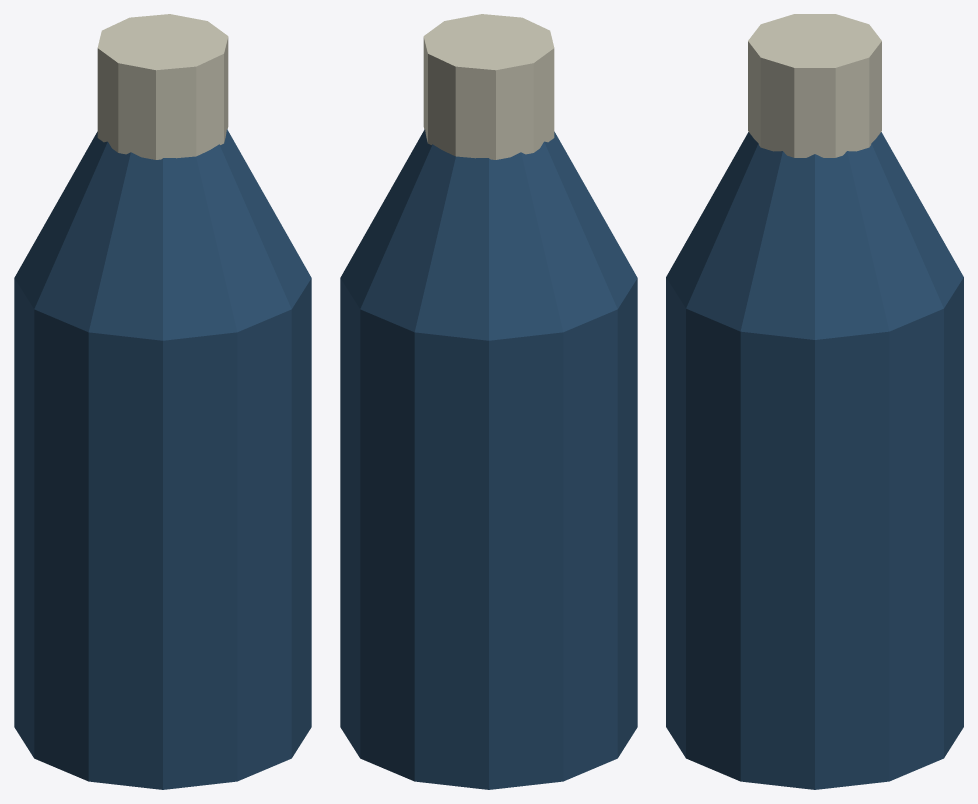
Rendered from Item_Bottle.fbx.
3 renders of one model, left to right at view 1: azimuth 30°, elevation 25°; view 2: azimuth 150°, elevation 25°; view 3: azimuth 270°, elevation 25°, orthographic.
Parts seen in each view (by area): view 1: Item_Bottle; view 2: Item_Bottle; view 3: Item_Bottle.
Boxes of the visible parts, left/top/right/bottom form: Item_Bottle: left=14, top=14, right=311, bottom=789; Item_Bottle: left=340, top=14, right=637, bottom=789; Item_Bottle: left=666, top=14, right=963, bottom=789.
Size of the model in its own units: 0.12 by 0.305 by 0.12.
